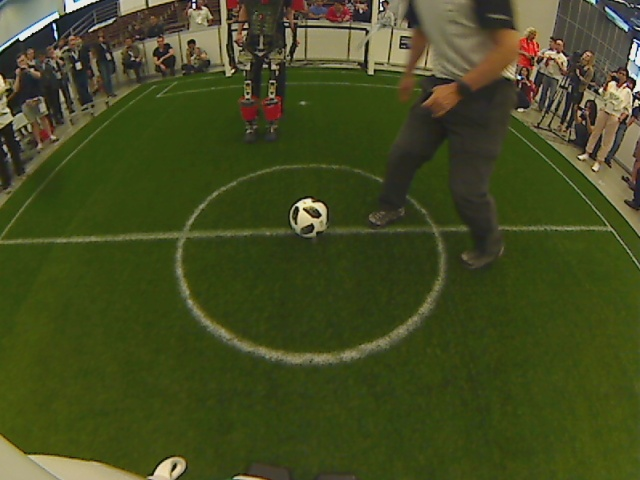ball: (287, 194, 333, 242)
